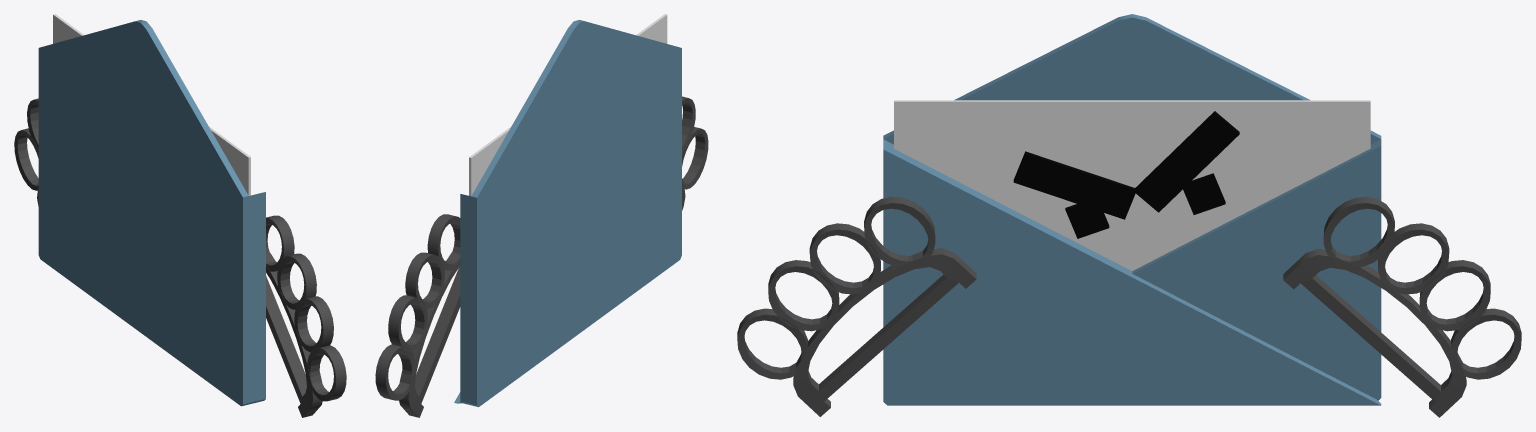
File: Mail_Troop (3).fbx
3 renders of one model, left to right at view 1: azimuth 30°, elevation 25°; view 2: azimuth 150°, elevation 25°; view 3: azimuth 270°, elevation 25°, orthographic. The views are drawn at different scales.
Visible parts, largest first — view 1: Mail_Face_; view 2: Mail_Face_; view 3: Mail_Face_.
Boxes of the visible parts, box(x1,y1,x2,y2) form: Mail_Face_: box(14, 14, 346, 417); Mail_Face_: box(375, 14, 708, 417); Mail_Face_: box(737, 14, 1521, 417).
Size of the model in its own units: 0.1379 by 0.9255 by 1.74.
